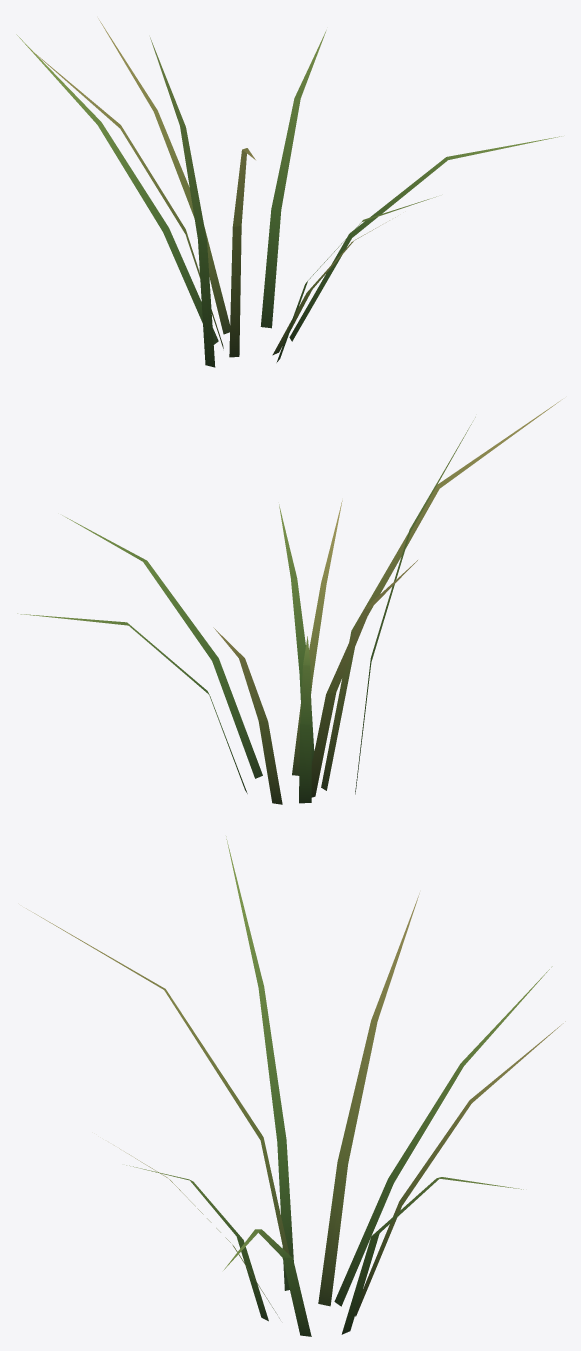
File: grass_tall_wild_01.glb
3 renders of one model, top to bottom at view 1: azimuth 30°, elevation 25°; view 2: azimuth 150°, elevation 25°; view 3: azimuth 270°, elevation 25°, orthographic. The views are drawn at different scales.
Parts seen in each view (by area): view 1: grass_tall_wild_01_mesh; view 2: grass_tall_wild_01_mesh; view 3: grass_tall_wild_01_mesh.
Boxes of the visible parts, x1,y1,x2,y2 form: grass_tall_wild_01_mesh: [16, 18, 561, 367]; grass_tall_wild_01_mesh: [17, 399, 562, 804]; grass_tall_wild_01_mesh: [26, 836, 565, 1336].
Bounding box in the file's own units: 0.6647 × 0.5313 × 0.6521.
